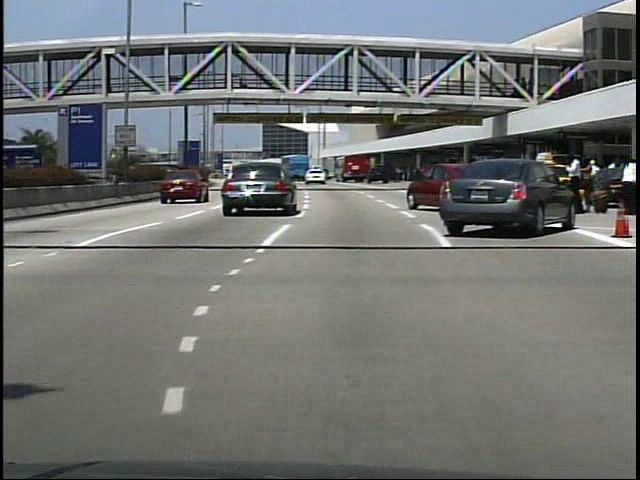person: (584, 158, 602, 221), (618, 159, 638, 211), (221, 66, 234, 92)
